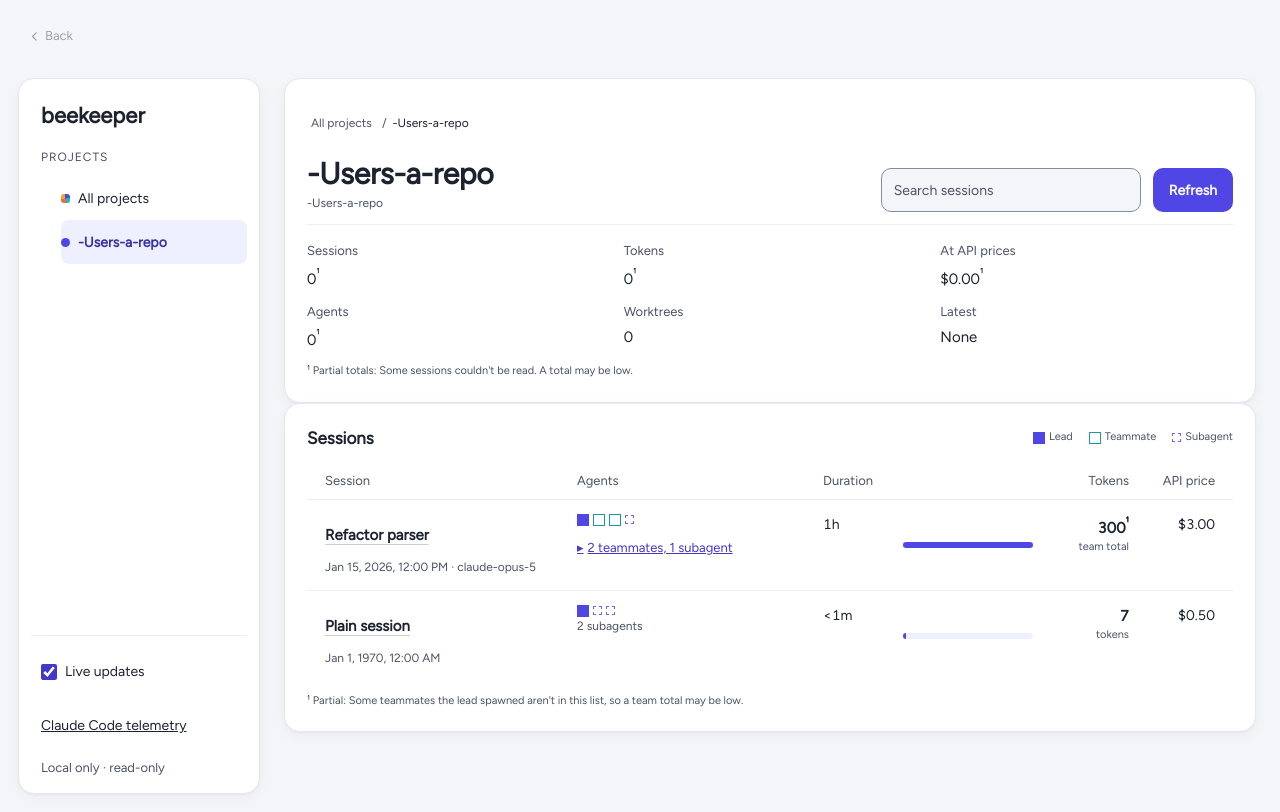
Scenario: session cards › shows a lead with its agent count, team total, and a row for each teammate once opened
What coordinates should you click on to do the following:
click the button "▸ 2 teammates, 1 subagent"
I would click on:
 (655, 548)
Its box is [577, 526, 733, 570].
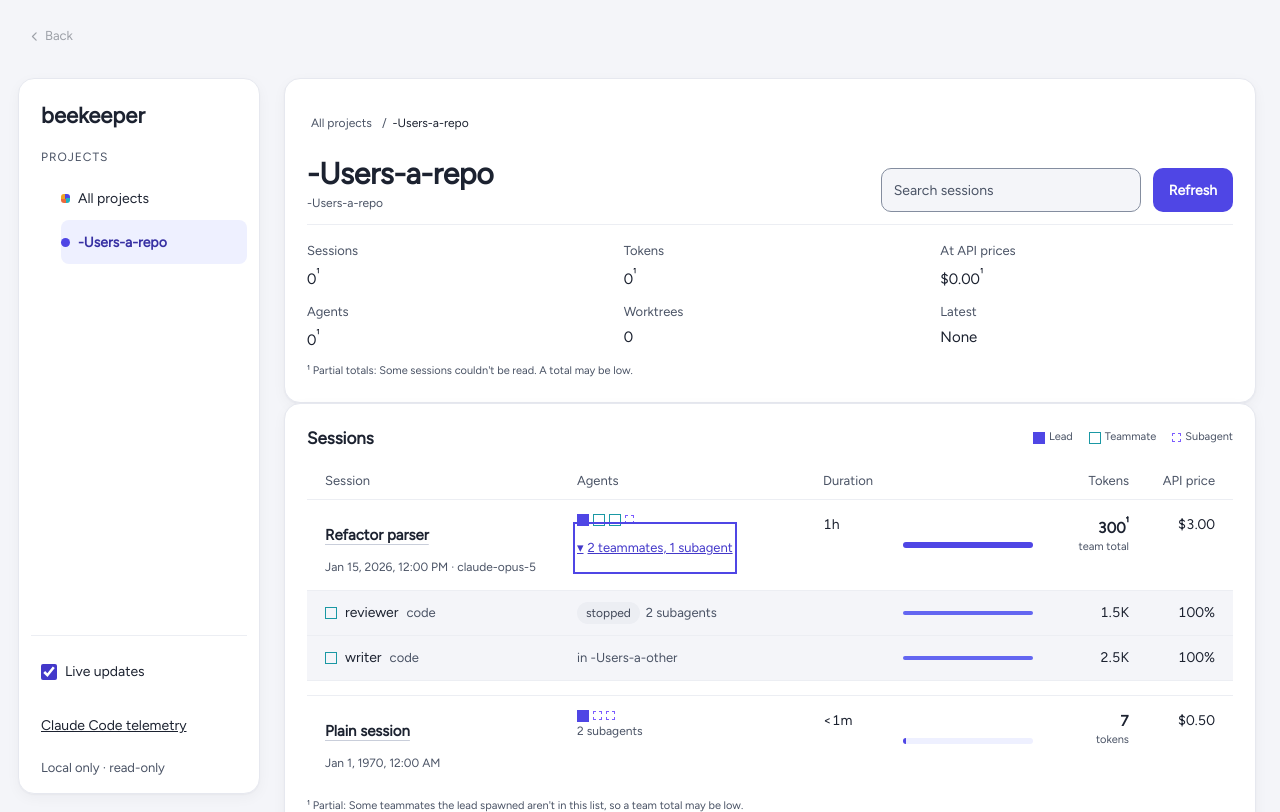
Expected: the text "team total" is shown, [1049, 539, 1129, 556]
Expected: the button named "reviewer code stopped 2 subagents 1.5K tokens 100% of the session" is shown, [307, 590, 1233, 634]
Expected: the button named "writer code in -Users-a-other 2.5K tokens 100% of the session" is shown, [307, 636, 1233, 680]
